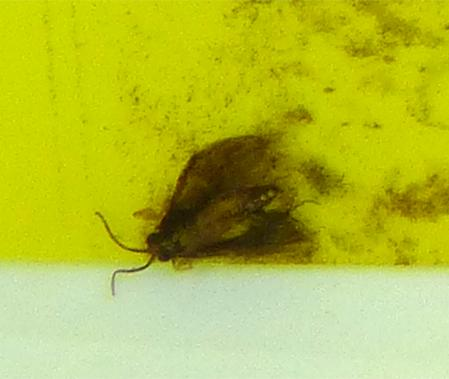Lepidoptera: (100, 100, 349, 279)
